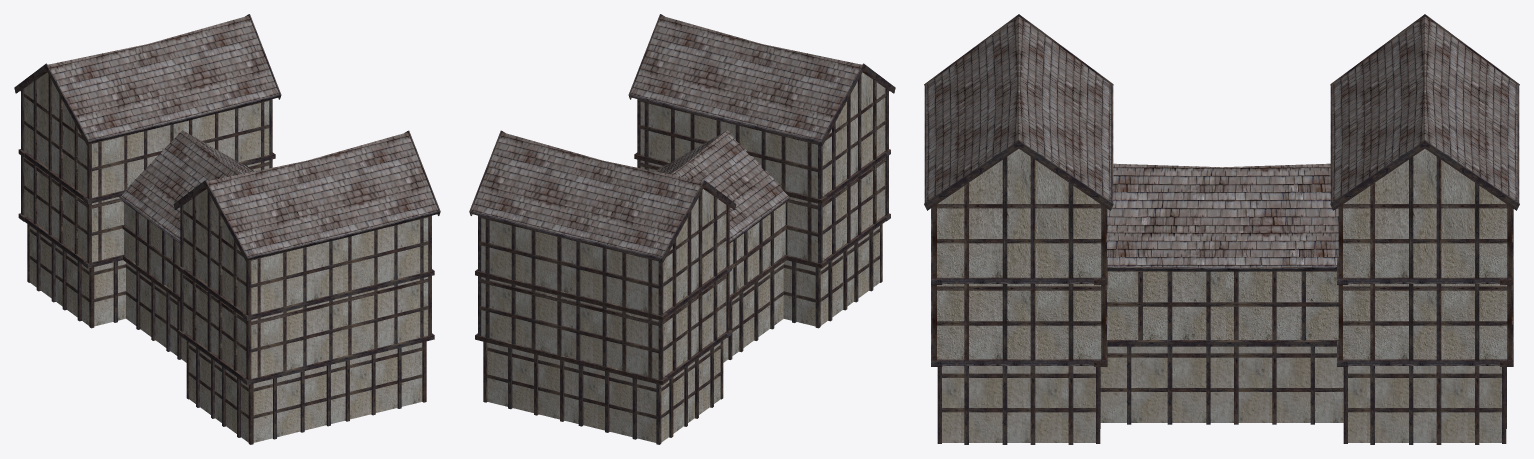
File: hhouse01.dae
3 renders of one model, left to right at view 1: azimuth 30°, elevation 25°; view 2: azimuth 150°, elevation 25°; view 3: azimuth 270°, elevation 25°, orthographic. The views are drawn at different scales.
Visible parts, largest first — view 1: House2_Roof, House2_Roof_001, House2_Level3_001, House2_Level2_001, House2_Level1_001, House2_Level3, House1_Roof, House2_Level2_Beams_001, House2_Level3_Beams_001, House2_Level1_Beams_001, House2_Level2, House2_Level3_Beams (+13 smaller); view 2: House2_Roof_001, House2_Roof, House2_Level3, House2_Level2, House2_Level1, House2_Level3_001, House2_Level2_Beams, House2_Level3_Beams, House1_Roof, House2_Level1_Beams, House2_Level3_Beams_001, House2_Level2_001 (+13 smaller); view 3: House1_Roof, House2_Roof, House2_Roof_001, House1_Level1, House2_Level3, House2_Level3_001, House1_Level2, House2_Level2, House2_Level2_001, House2_Level1, House2_Level1_001, House2_Level3_Beams_001 (+15 smaller).
Part boxes in pixels (x1,y1,x2,y2): House2_Roof: (48, 15, 278, 140); House2_Roof_001: (207, 132, 438, 257); House2_Level3_001: (183, 189, 428, 314); House2_Level2_001: (183, 274, 428, 378); House2_Level1_001: (189, 342, 422, 442); House2_Level3: (24, 72, 269, 197); House1_Roof: (120, 130, 252, 240); House2_Level2_Beams_001: (180, 272, 431, 379); House2_Level3_Beams_001: (180, 191, 431, 315); House2_Level1_Beams_001: (186, 341, 426, 444); House2_Level2: (24, 157, 269, 262); House2_Level3_Beams: (21, 75, 272, 198); House2_Roof_001: (631, 15, 861, 140); House2_Roof: (471, 132, 702, 257); House2_Level3: (481, 189, 726, 314); House2_Level2: (481, 274, 726, 378); House2_Level1: (487, 342, 720, 442); House2_Level3_001: (640, 72, 885, 197); House2_Level2_Beams: (478, 272, 729, 379); House2_Level3_Beams: (478, 191, 729, 315); House1_Roof: (657, 130, 788, 240); House2_Level1_Beams: (483, 341, 723, 444); House2_Level3_Beams_001: (637, 75, 888, 198); House2_Level2_001: (640, 160, 885, 262); House1_Roof: (1107, 163, 1338, 267); House2_Roof: (1332, 16, 1517, 201); House2_Roof_001: (926, 16, 1111, 201); House1_Level1: (1100, 346, 1343, 422); House2_Level3: (1343, 149, 1507, 277); House2_Level3_001: (937, 149, 1101, 277); House1_Level2: (1107, 271, 1338, 339); House2_Level2: (1343, 284, 1507, 359); House2_Level2_001: (937, 284, 1101, 359); House2_Level1: (1348, 366, 1501, 442); House2_Level1_001: (942, 366, 1095, 442); House2_Level3_Beams_001: (932, 157, 1107, 278).
Size of the model in its own units: 8.78 by 17.4 by 10.07.
Materials: 6 (6 with a texture image).
